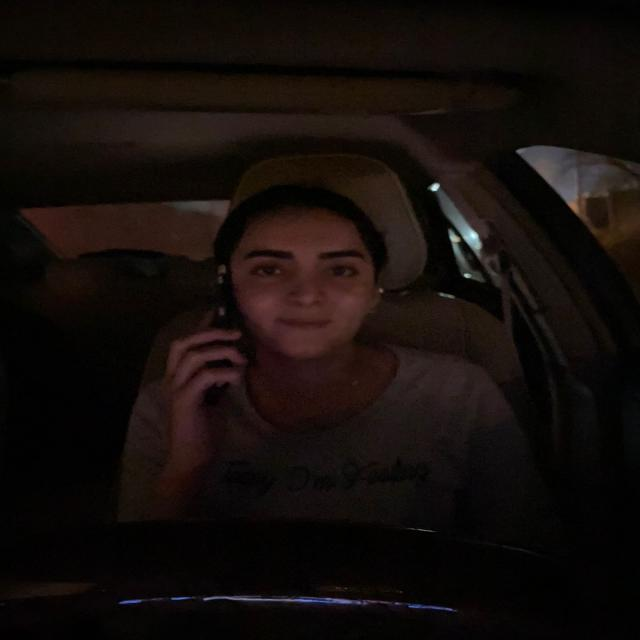mobile: (203, 260, 241, 409)
person: (235, 196, 386, 366)
